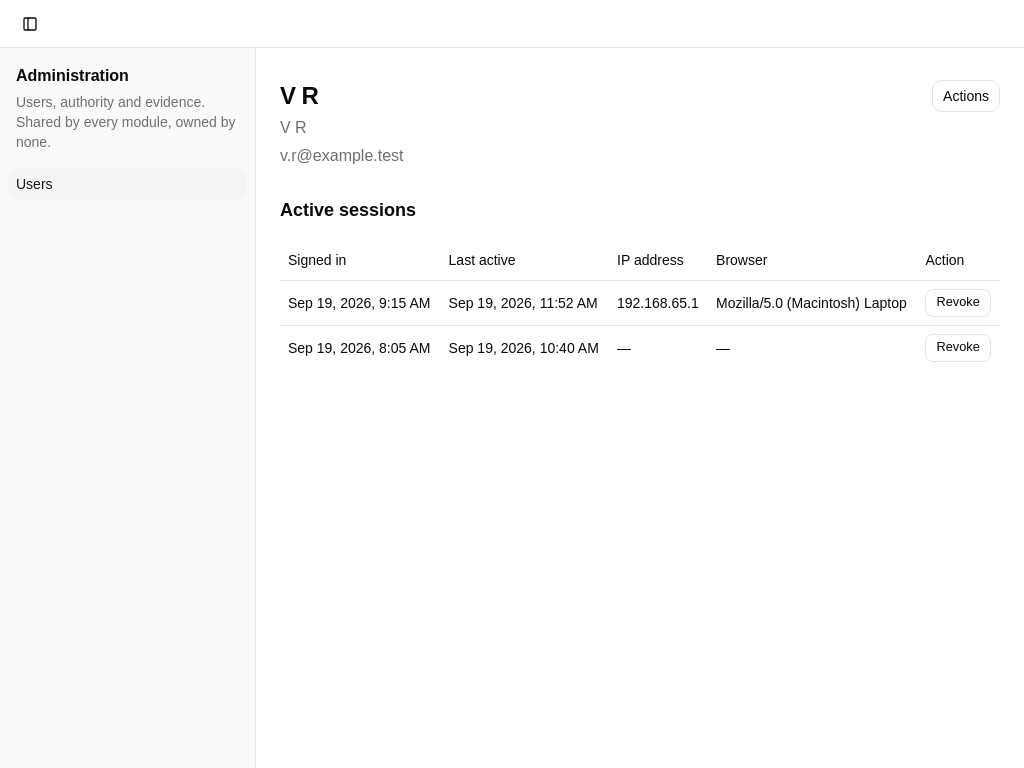
Scenario: revoking › requires a reason, and sends nothing without one
Expected: the heading "V R" is shown, [280,82,318,109]
Click the button with aria-label "Revoke session" at {"x": 958, "y": 302}, box [926,288,991,316]
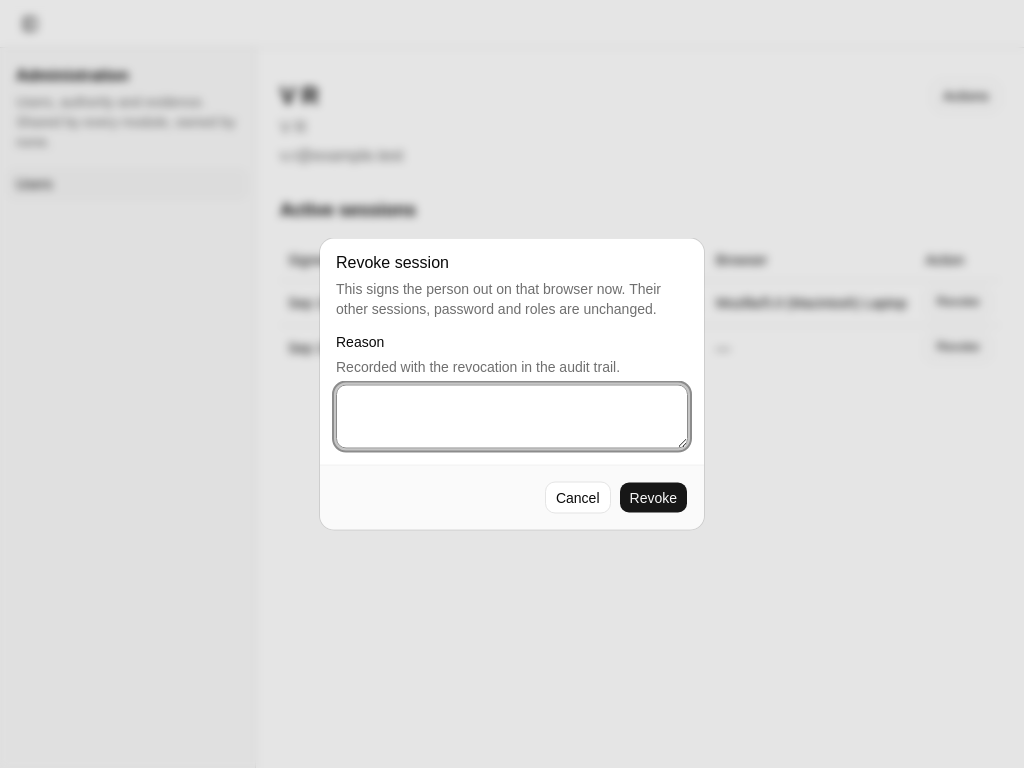
Click the button "Revoke" at {"x": 653, "y": 498}, box [618,482,688,514]
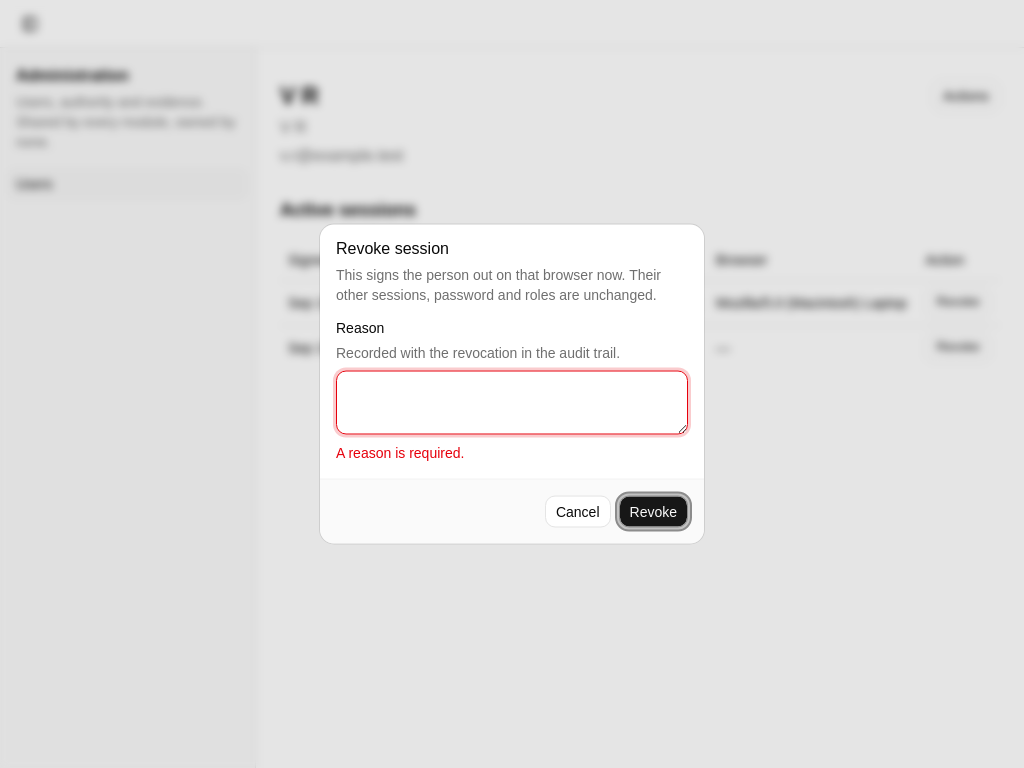
Expected: the text "A reason is required." is shown, [336,444,464,460]
